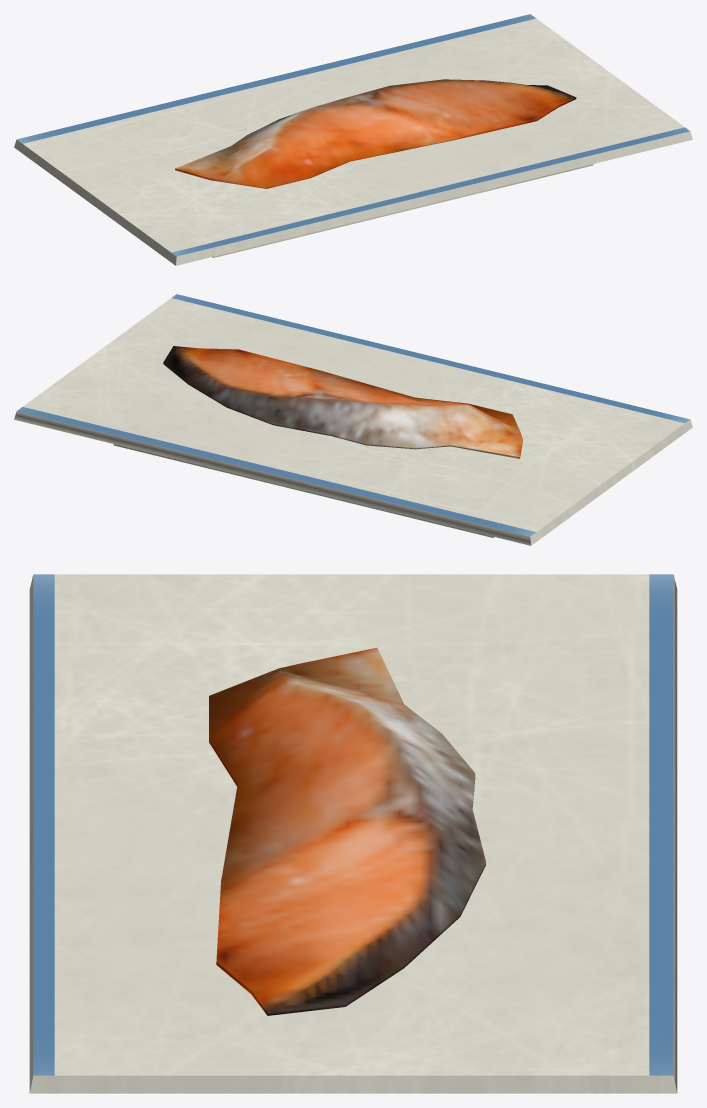
Rendered from dinerfoods09a.fbx.
3 views of the same model, one above another, from view 1: azimuth 30°, elevation 25°; view 2: azimuth 150°, elevation 25°; view 3: azimuth 270°, elevation 25° (orthographic). The views are drawn at different scales.
Parts seen in each view (by area): view 1: dinerfoods09a; view 2: dinerfoods09a; view 3: dinerfoods09a.
Part boxes in pixels (box(x1,y1,x2,y2)): dinerfoods09a: box(14, 14, 692, 265); dinerfoods09a: box(14, 294, 692, 545); dinerfoods09a: box(29, 574, 677, 1093).
Size of the model in its own units: 32 by 3.96 by 17.35.
